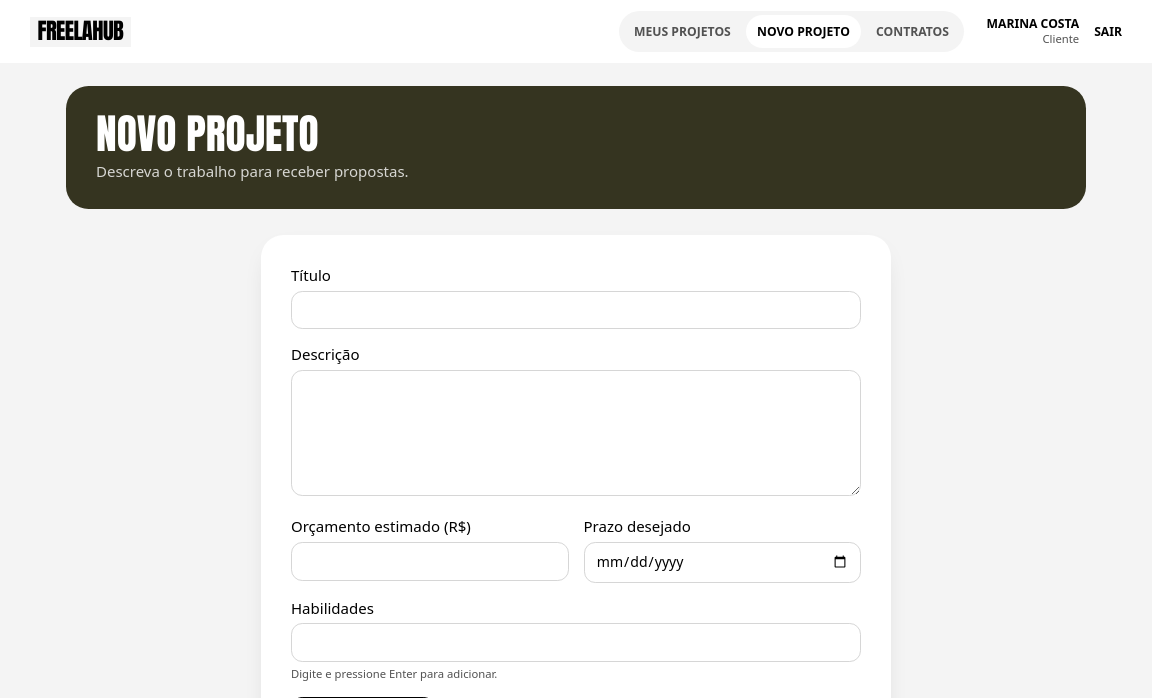
Test: formulário de novo projeto › recusa orçamento zero e prazo no passado
This screenshot has width=1152, height=698.
Type "0" into the number field labelled "Orçamento estimado (R$)" at (430, 561), box x1=291 y1=542 x2=568 y2=581
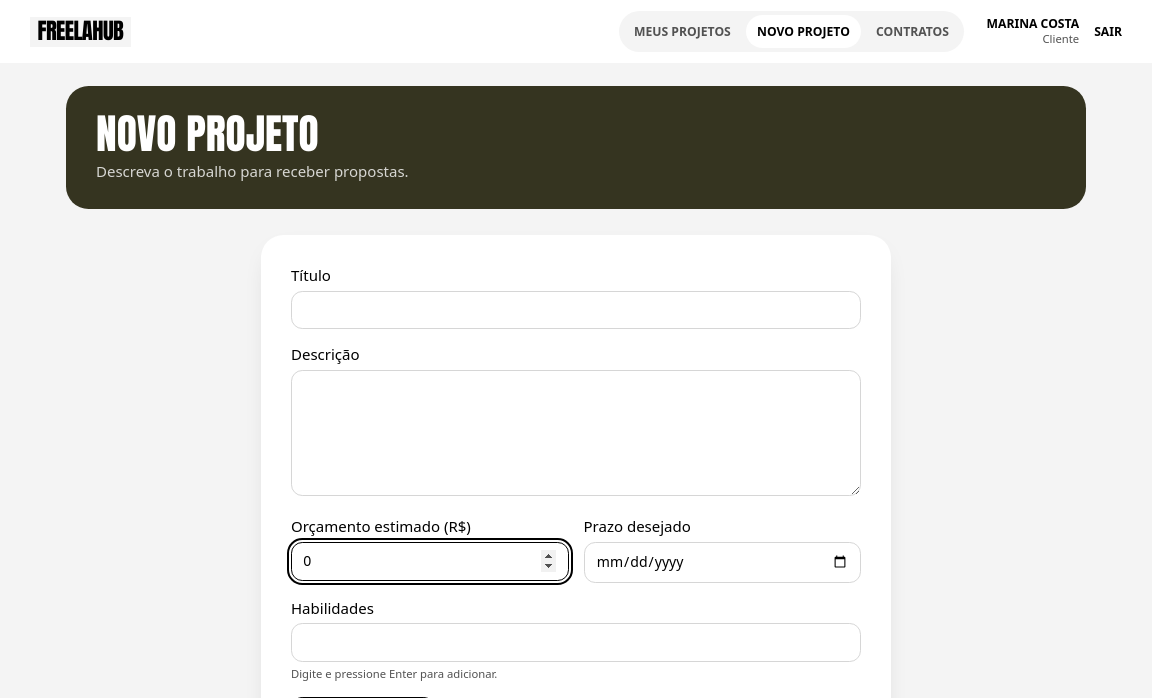
Type "2020-01-01" into the date field labelled "Prazo desejado" at (722, 562), box x1=584 y1=542 x2=861 y2=583
(page scrolled)
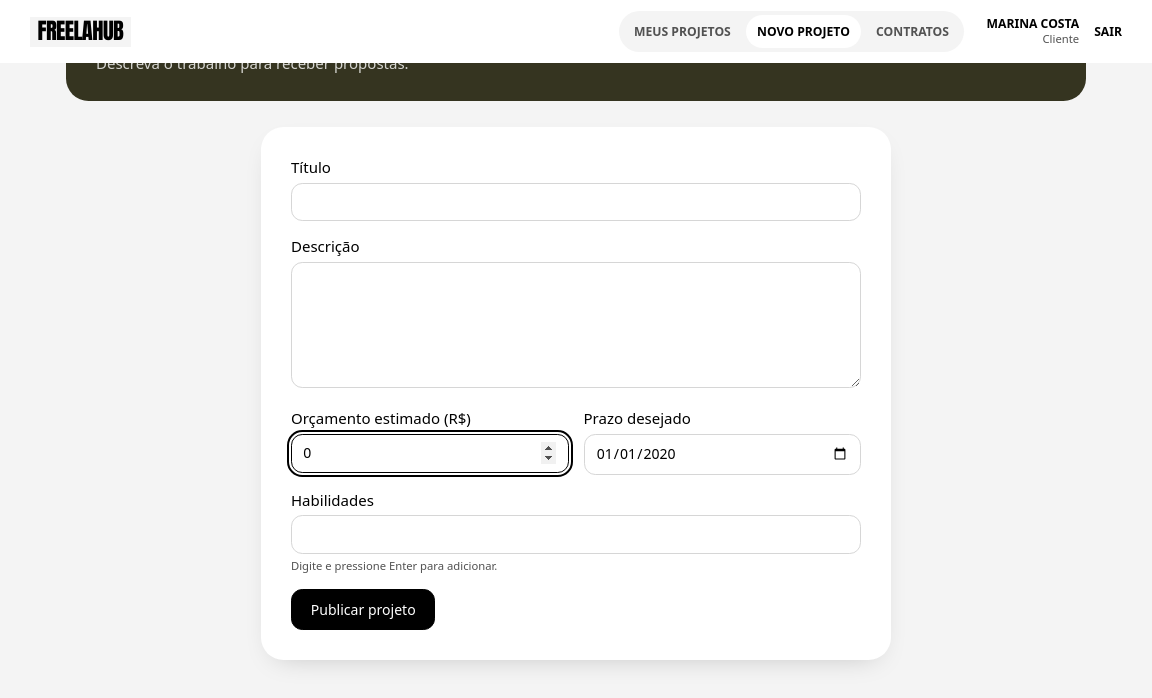
Click the button "Publicar projeto" at (363, 610), box x1=291 y1=589 x2=435 y2=630
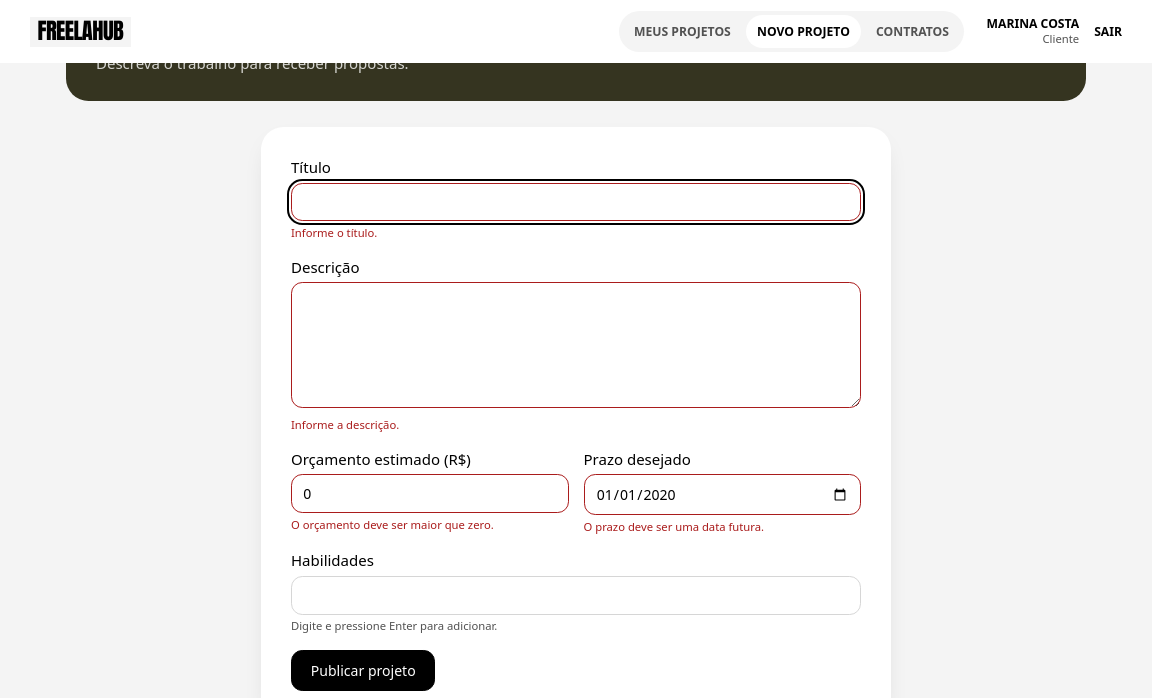
Check: the text "O orçamento deve ser maior que zero." is shown, box x1=291 y1=517 x2=494 y2=532
Check: the text "O prazo deve ser uma data futura." is shown, box x1=584 y1=519 x2=764 y2=534
